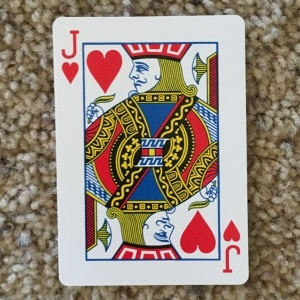card: (50, 14, 249, 286)
